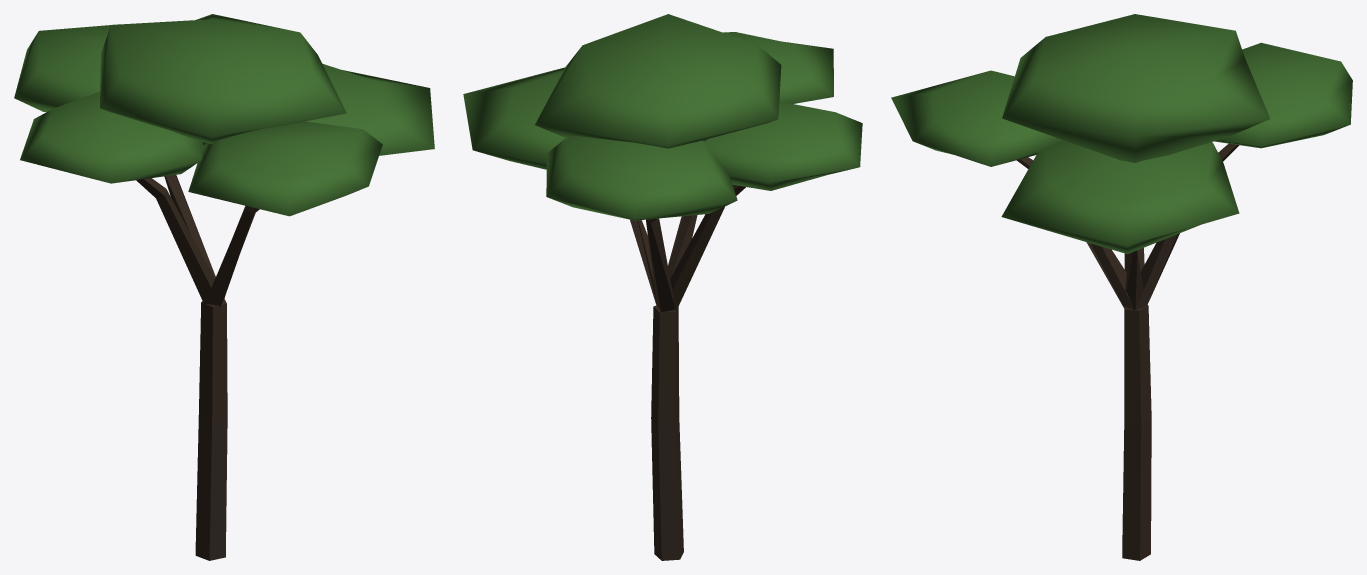
3 renders of one model, left to right at view 1: azimuth 30°, elevation 25°; view 2: azimuth 150°, elevation 25°; view 3: azimuth 270°, elevation 25°, orthographic. The views are drawn at different scales.
Parts seen in each view (by area): view 1: 树_14; view 2: 树_14; view 3: 树_14.
Boxes of the visible parts, <box> form: 树_14: <box>14,14,434,560</box>; 树_14: <box>463,14,862,560</box>; 树_14: <box>891,14,1352,560</box>.
Bounding box in the file's own units: 6.35 × 7.6 × 6.28.
